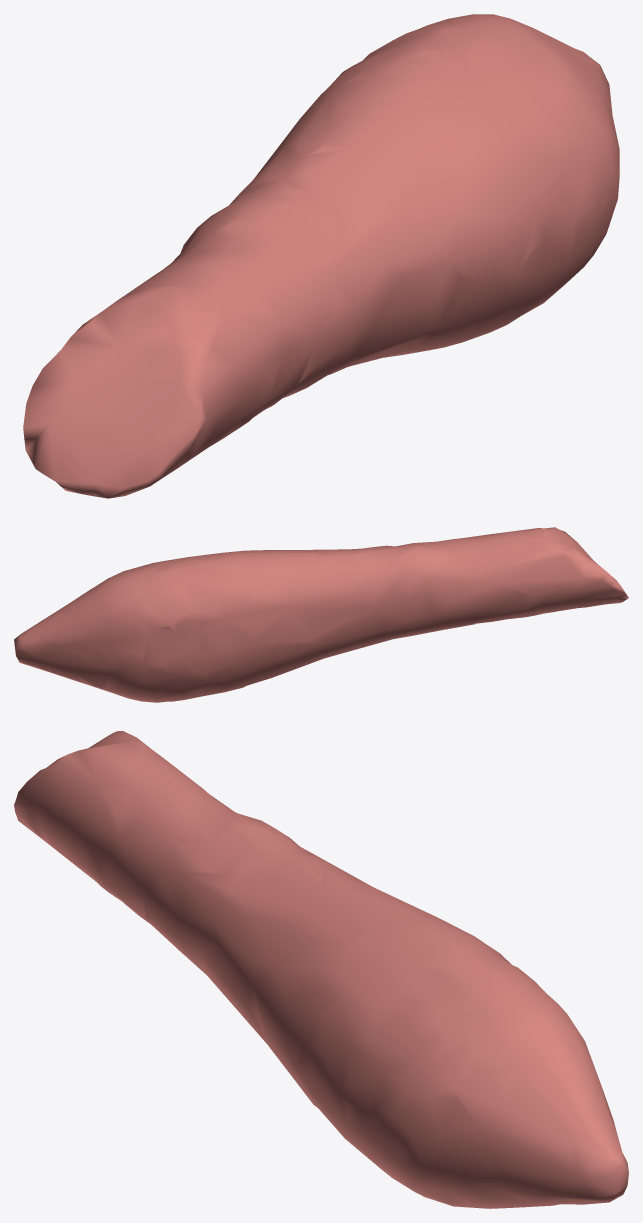
File: fma49030_mm1048.glb
3 views of the same model, one above another, from view 1: azimuth 30°, elevation 25°; view 2: azimuth 150°, elevation 25°; view 3: azimuth 270°, elevation 25° (orthographic). The views are drawn at different scales.
Parts seen in each view (by area): view 1: FMA49030_MM1048; view 2: FMA49030_MM1048; view 3: FMA49030_MM1048.
Part boxes in pixels (x1,y1,x2,y2): FMA49030_MM1048: (23,14,619,498); FMA49030_MM1048: (14,527,628,702); FMA49030_MM1048: (14,731,628,1208).
Size of the model in its own units: 0.00232 by 0.000734 by 0.00171.
